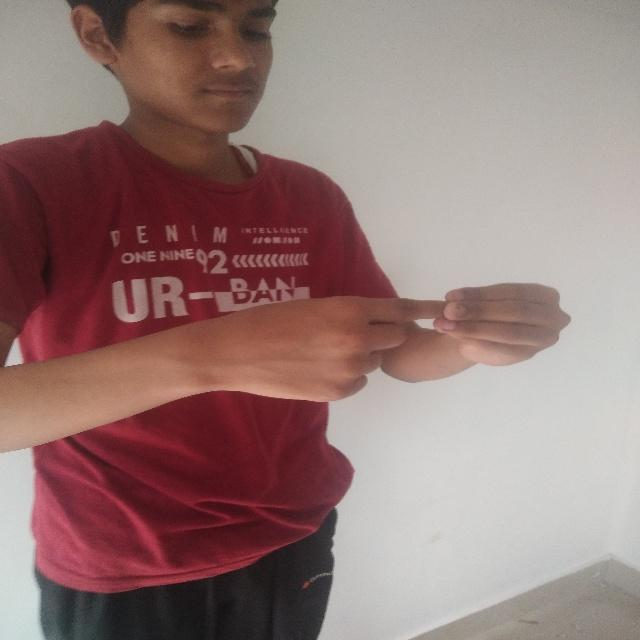Five Fathers: (172, 270, 581, 411)
